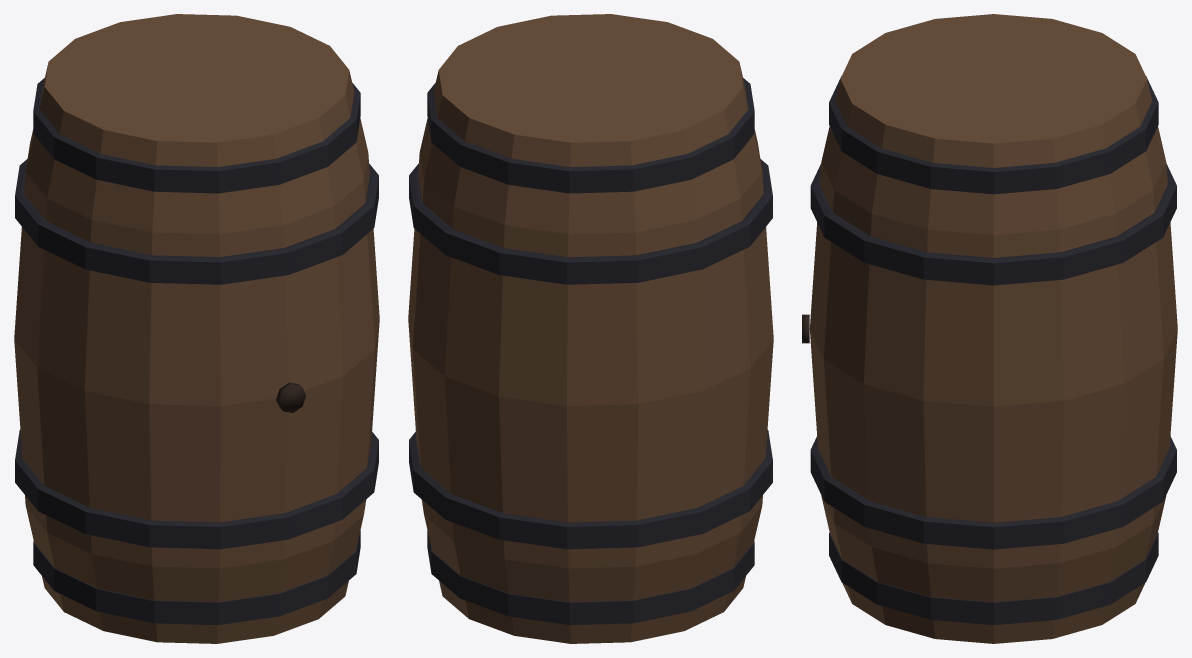
Rendered from barrel.glb.
3 renders of one model, left to right at view 1: azimuth 30°, elevation 25°; view 2: azimuth 150°, elevation 25°; view 3: azimuth 270°, elevation 25°, orthographic.
Parts seen in each view (by area): view 1: barrel; view 2: barrel; view 3: barrel.
Boxes of the visible parts, bbox=[...] form: barrel: bbox=[14, 14, 379, 643]; barrel: bbox=[408, 14, 773, 643]; barrel: bbox=[802, 14, 1177, 643].
Bounding box in the file's own units: 0.48 × 0.72 × 0.49.
